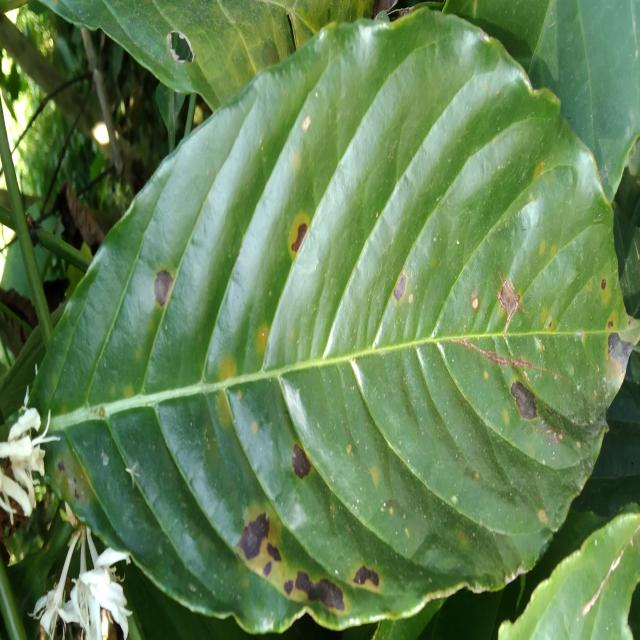Enfermedad-Mancha-de-hierro: (33, 8, 629, 640)
